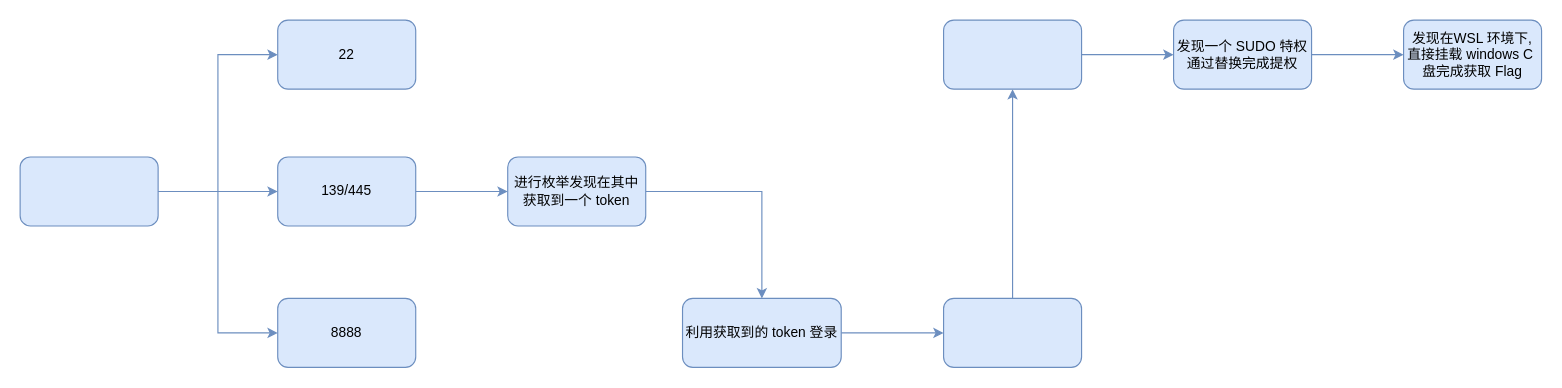
This 1562x388 diagram has some shape labels left out. The shapes that lost their labels are listed below. From the top down, each one's centre as x and y in pixels, then its label:
At [1012,54]: "得到用户 dev-datasci 的 Shell".
At [88,191]: "端口扫描".
At [1012,332]: "发现命令注入漏洞".
